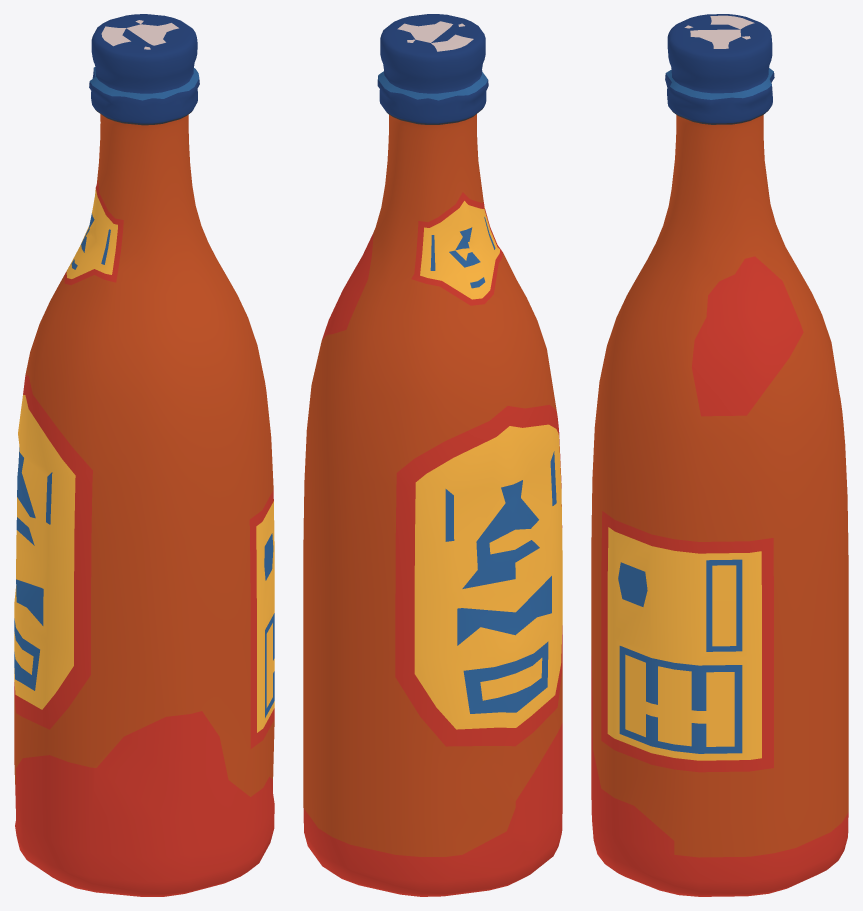
Rendered from ClubMate.glb.
3 renders of one model, left to right at view 1: azimuth 30°, elevation 25°; view 2: azimuth 150°, elevation 25°; view 3: azimuth 270°, elevation 25°, orthographic.
Visible parts, largest first — view 1: Cylinder.007; view 2: Cylinder.007; view 3: Cylinder.007.
Part boxes in pixels (x1,y1,x2,y2): Cylinder.007: [14, 14, 274, 896]; Cylinder.007: [303, 14, 562, 896]; Cylinder.007: [591, 14, 848, 896].
Size of the model in its own units: 1.79 by 6.25 by 1.78.
Materials: 1 (1 with a texture image).
